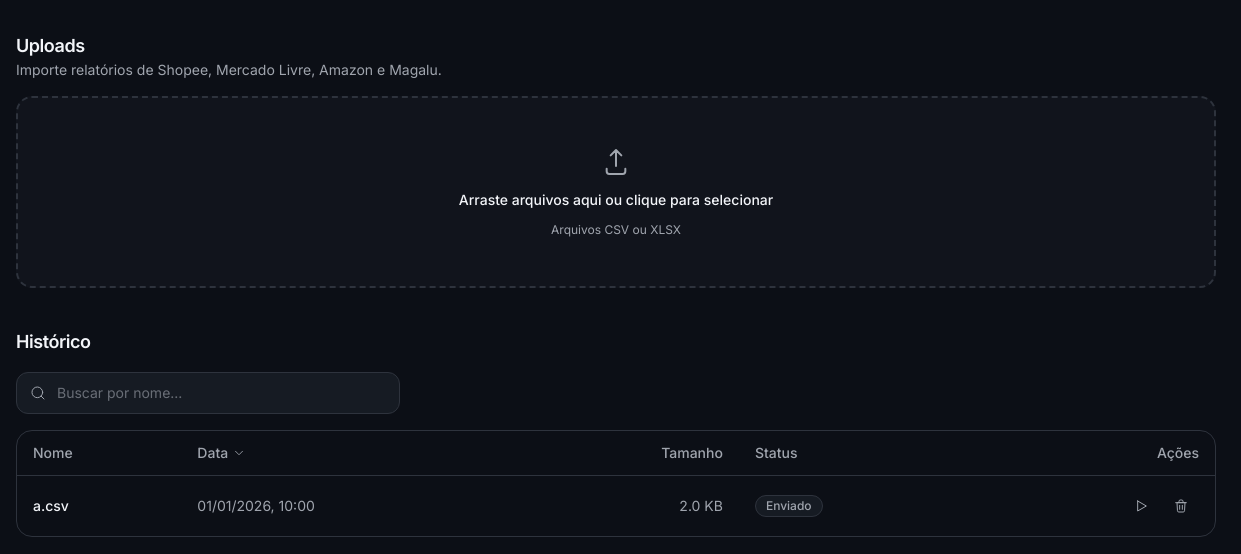
Test: UploadsPage › processes an upload and shows a success toast
Check: the link "a.csv" is shown, box [33,497,69,514]
Step 1. Click the button named "Processar a.csv" → click(1141, 506), box [1123,488,1159,524]
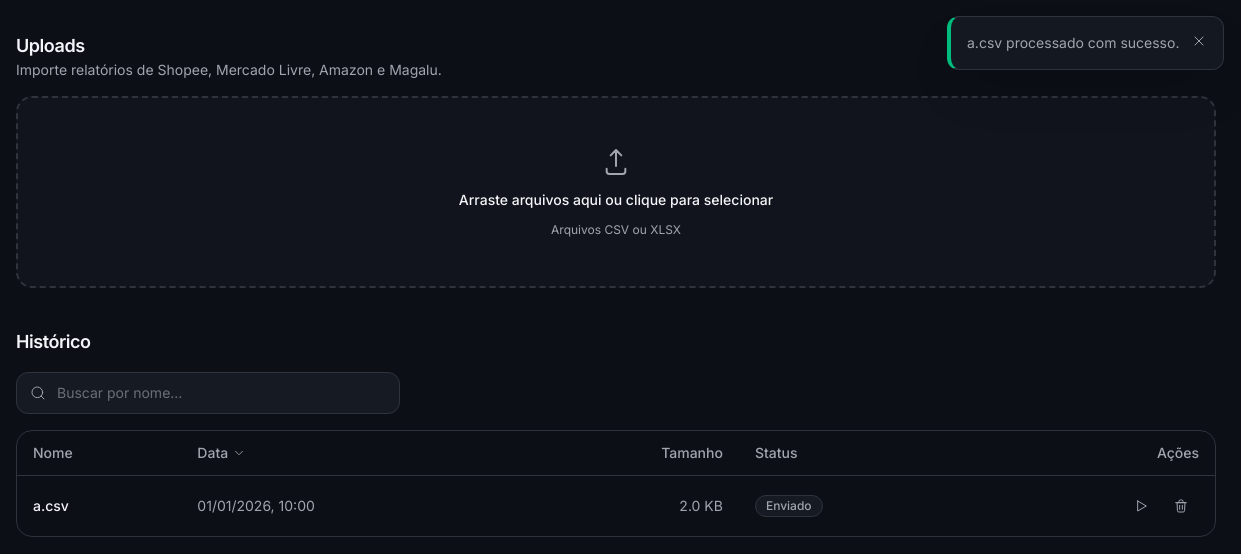
Check: the text "a.csv processado com sucesso." is shown, box [967,33,1179,53]
